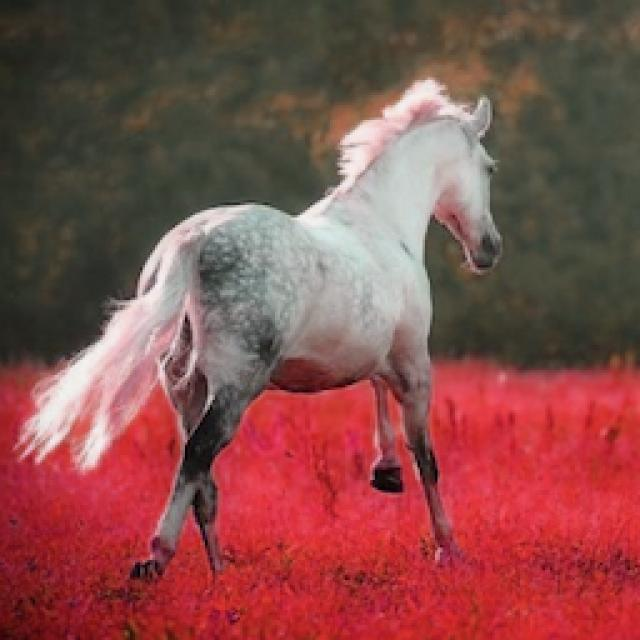Horse: (10, 72, 512, 590)
